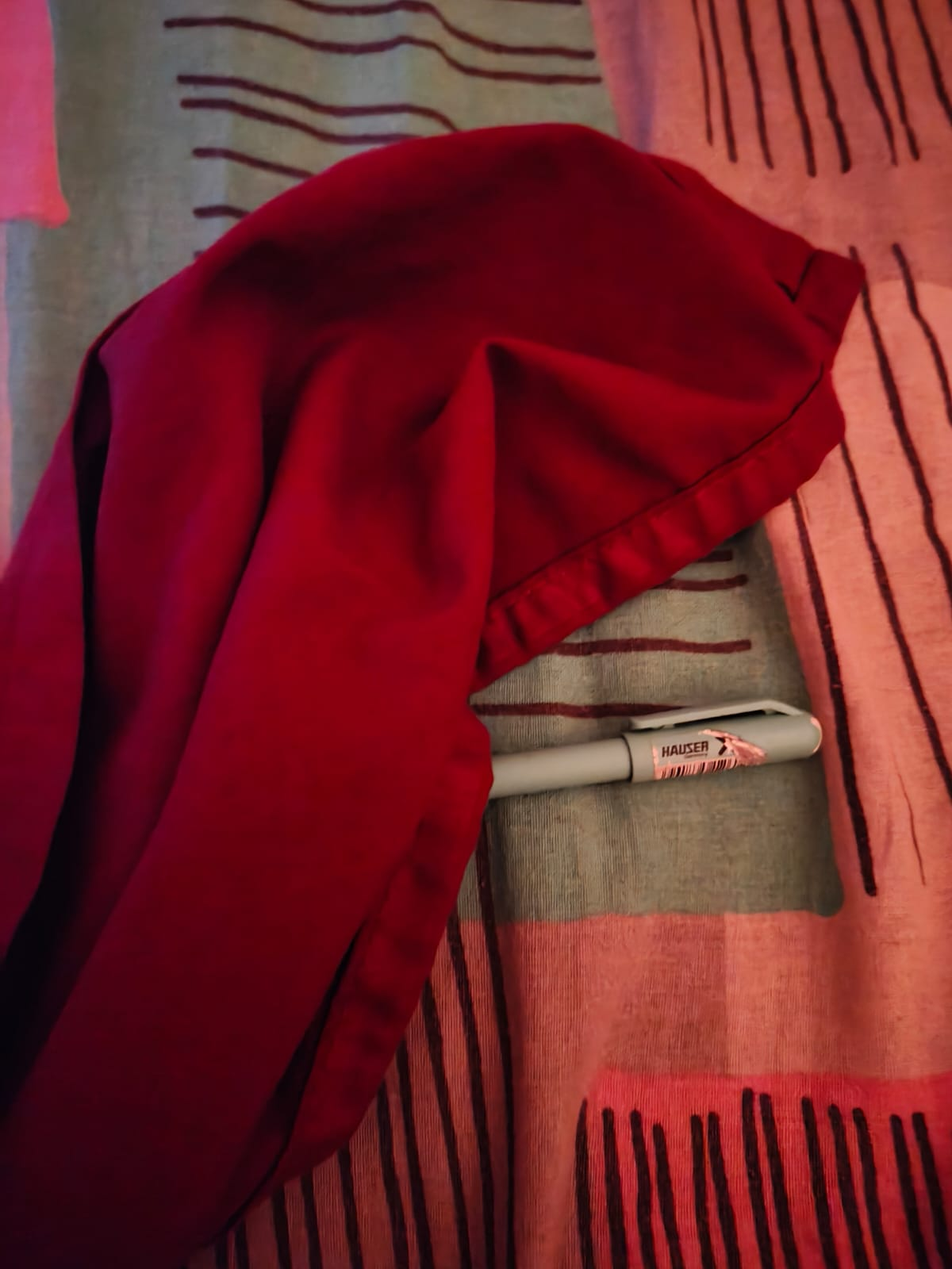pen: (447, 683, 852, 799)
